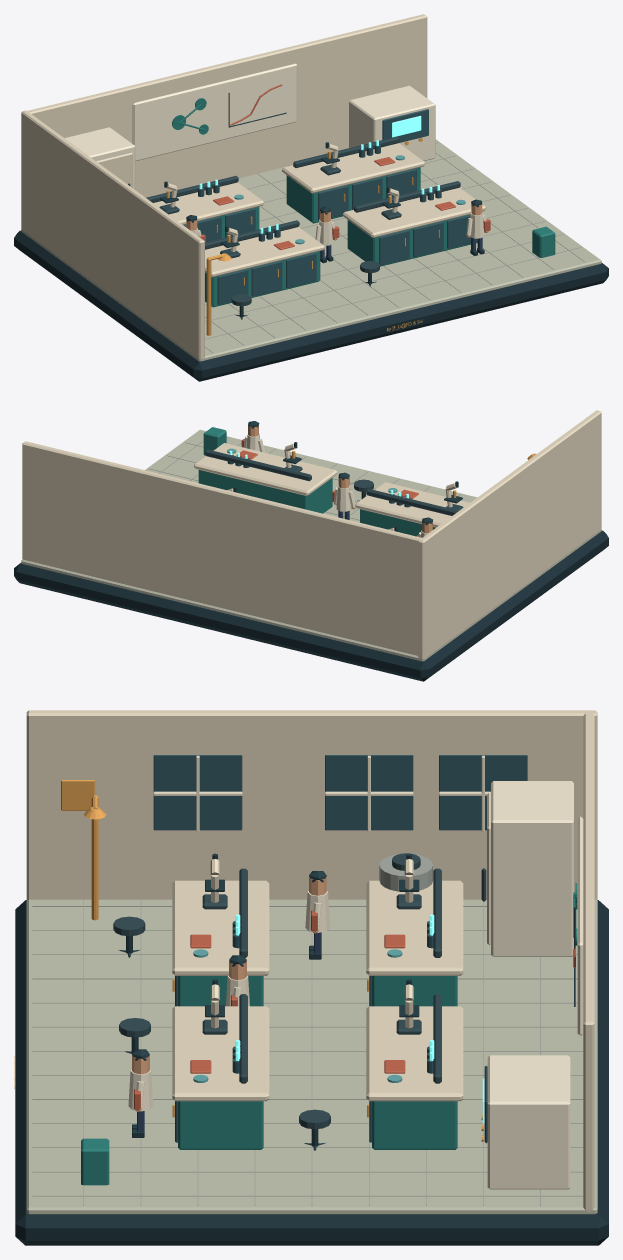
The model's file is laboratory.glb.
3 renders of one model, top to bottom at view 1: azimuth 30°, elevation 25°; view 2: azimuth 150°, elevation 25°; view 3: azimuth 270°, elevation 25°, orthographic. The views are drawn at different scales.
Parts seen in each view (by area): view 1: lab_room, lab_benches, lab_equipment, lab_people, lab_details; view 2: lab_room, lab_benches, lab_people, lab_details; view 3: lab_room, lab_benches, lab_equipment, lab_people, lab_details.
Part boxes in pixels (left/top/right/bottom): lab_room: left=14, top=14, right=608, bottom=381; lab_benches: left=146, top=136, right=486, bottom=307; lab_equipment: left=64, top=63, right=435, bottom=319; lab_people: left=186, top=199, right=490, bottom=263; lab_details: left=206, top=226, right=555, bottom=335; lab_room: left=14, top=410, right=608, bottom=681; lab_benches: left=194, top=442, right=469, bottom=536; lab_people: left=241, top=421, right=432, bottom=537; lab_details: left=203, top=427, right=536, bottom=459; lab_room: left=15, top=710, right=608, bottom=1245; lab_benches: left=172, top=853, right=463, bottom=1149; lab_equipment: left=113, top=781, right=583, bottom=1189; lab_people: left=128, top=871, right=330, bottom=1137; lab_details: left=61, top=780, right=109, bottom=1185.
Bounding box in the file's own units: 13.4 × 4.3 × 10.42.
